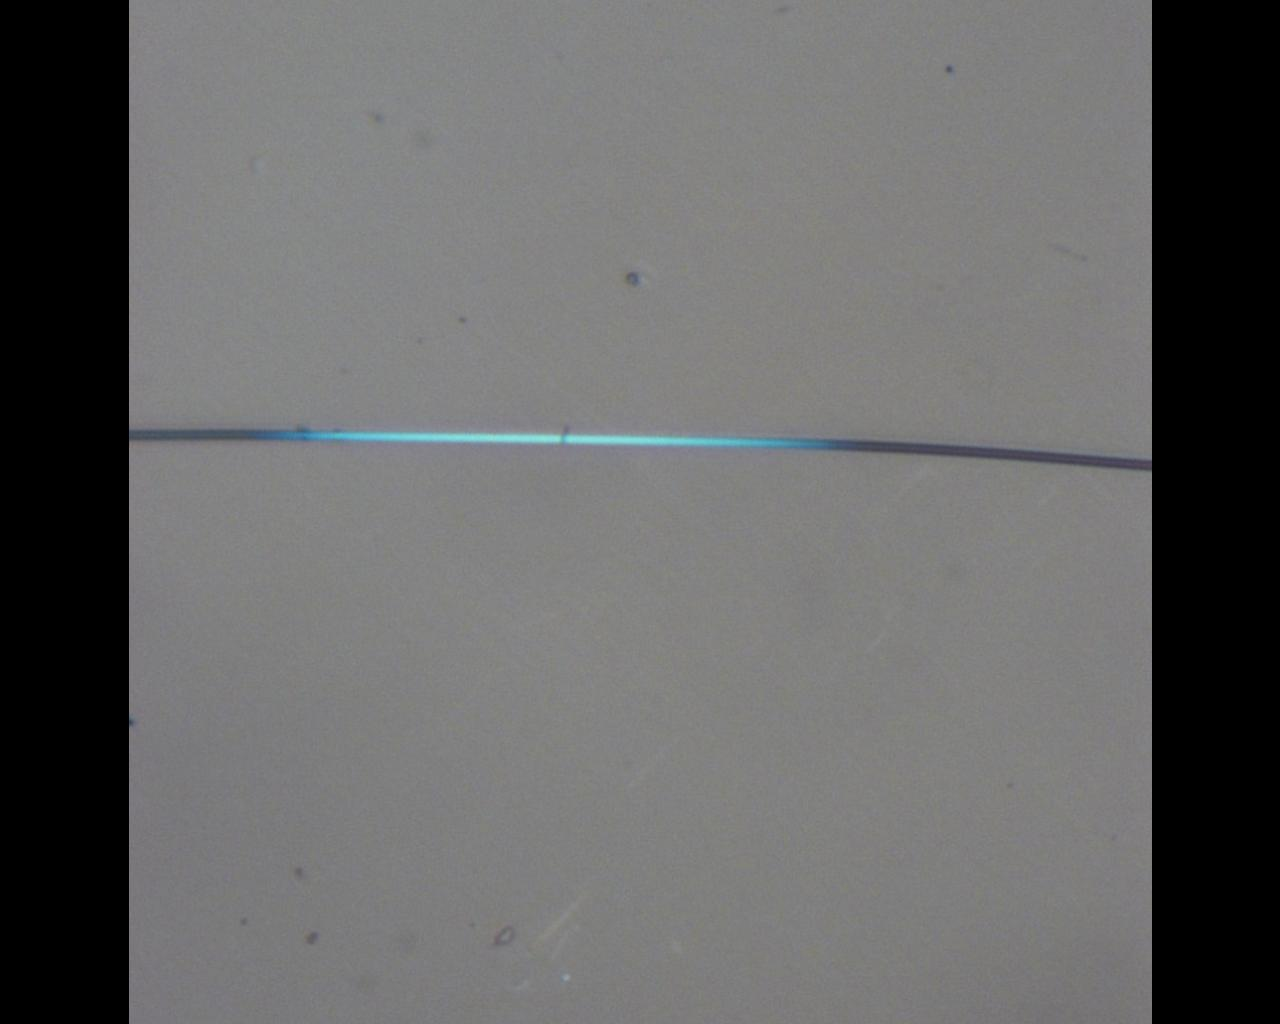fiber: (128, 426, 1152, 473)
